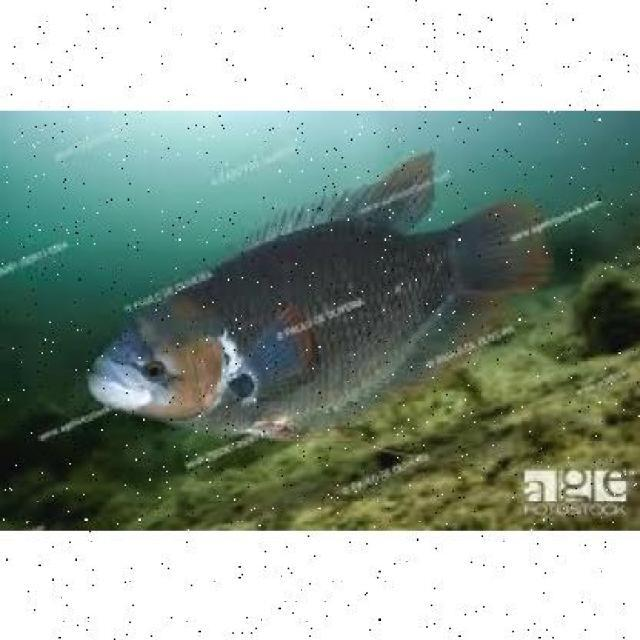gurame: (81, 188, 550, 440)
